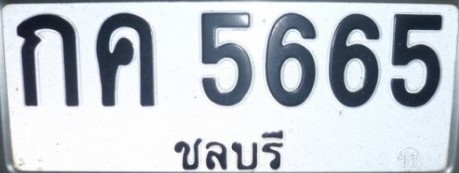txt01: (14, 12, 82, 110)
txt03: (94, 12, 159, 110)
